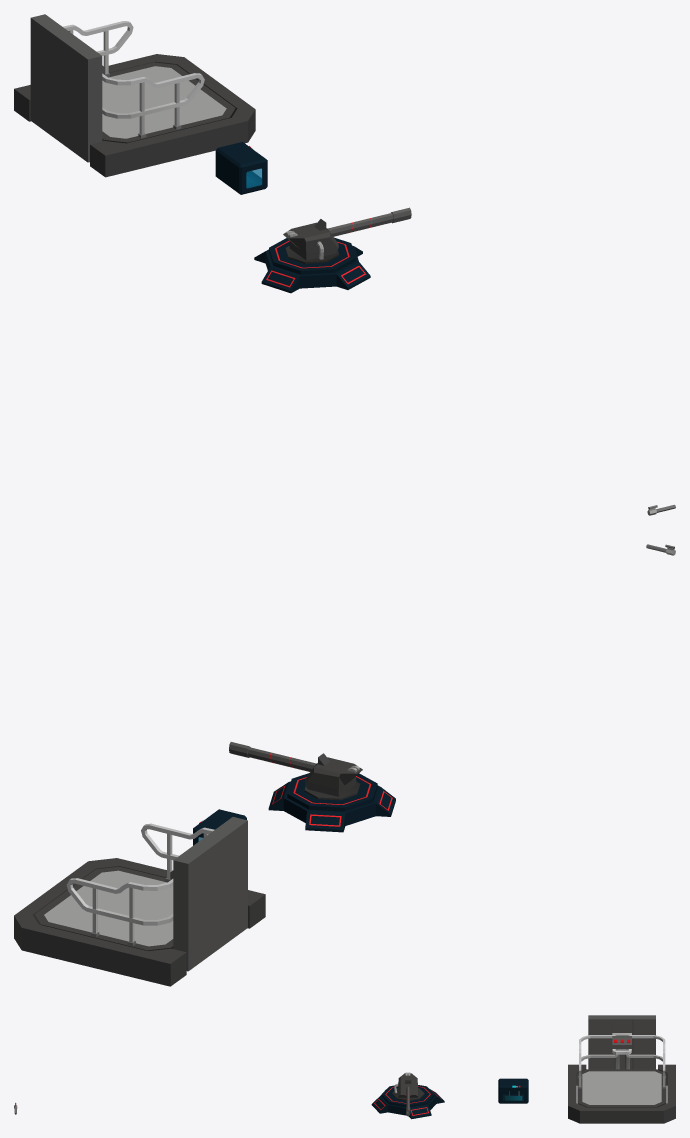
Rendered from complexos3.fbx.
3 renders of one model, top to bottom at view 1: azimuth 30°, elevation 25°; view 2: azimuth 150°, elevation 25°; view 3: azimuth 270°, elevation 25°, orthographic. The views are drawn at different scales.
Visible parts, largest first — view 1: Elevador, Torreta, Torreta.001, Impressora; view 2: Elevador, Torreta, Torreta.001; view 3: Elevador, Torreta, Impressora, Torreta.001.
Part boxes in pixels (x1,y1,x2,y2): Elevador: (14, 14, 255, 177); Torreta: (254, 237, 370, 293); Torreta.001: (283, 207, 411, 263); Impressora: (215, 142, 267, 194); Elevador: (14, 817, 265, 986); Torreta: (268, 773, 395, 832); Torreta.001: (229, 742, 362, 800); Elevador: (568, 1015, 675, 1123); Torreta: (371, 1085, 444, 1119); Impressora: (498, 1078, 528, 1103); Torreta.001: (391, 1072, 424, 1116).
Bounding box in the file's own units: 1171 × 788 × 6716.
